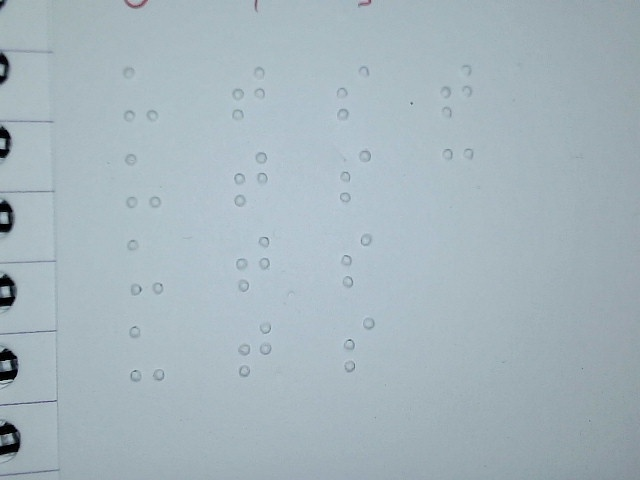S: (336, 63, 371, 120), (338, 147, 373, 204), (339, 230, 374, 287), (342, 315, 377, 372)
T: (231, 64, 266, 121), (233, 149, 268, 206), (235, 234, 270, 291), (237, 320, 272, 377)
U: (122, 65, 160, 123), (124, 151, 162, 209), (126, 238, 164, 296), (128, 324, 166, 382)
